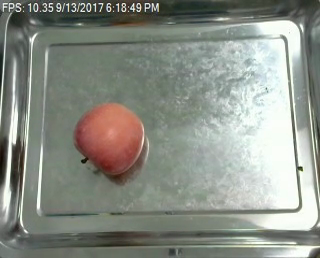Apple: (71, 100, 146, 181)
